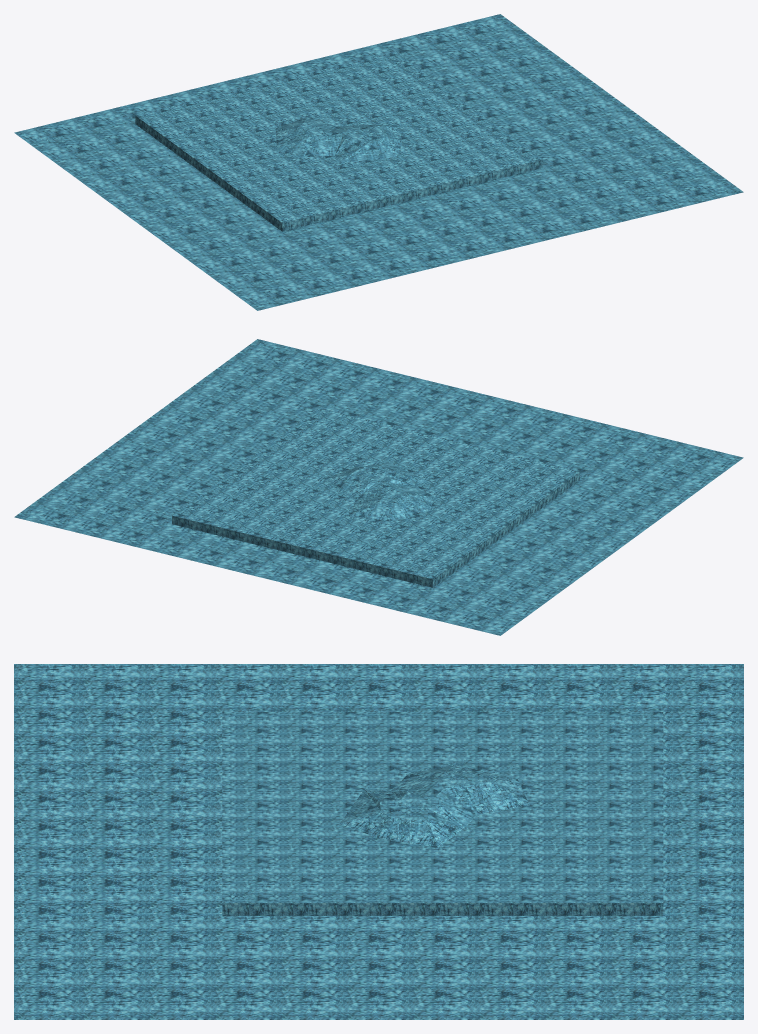
3 views of the same model, one above another, from view 1: azimuth 30°, elevation 25°; view 2: azimuth 150°, elevation 25°; view 3: azimuth 270°, elevation 25° (orthographic). The views are drawn at different scales.
Visible parts, largest first — view 1: SherbetL_Main-Azzlack_wall1.001, SherbetL_Main-Azzlack_wall2.001; view 2: SherbetL_Main-Azzlack_wall1.001, SherbetL_Main-Azzlack_wall2.001; view 3: SherbetL_Main-Azzlack_wall1.001, SherbetL_Main-Azzlack_wall2.001.
Part boxes in pixels (box(x1,y1,x2,y2)): SherbetL_Main-Azzlack_wall1.001: box(14, 14, 743, 310); SherbetL_Main-Azzlack_wall2.001: box(135, 52, 543, 231); SherbetL_Main-Azzlack_wall1.001: box(14, 339, 743, 635); SherbetL_Main-Azzlack_wall2.001: box(172, 408, 579, 587); SherbetL_Main-Azzlack_wall1.001: box(14, 664, 743, 1019); SherbetL_Main-Azzlack_wall2.001: box(222, 712, 663, 915).
Size of the model in its own units: 382642 by 16068 by 331752.
Materials: 10 (10 with a texture image).
